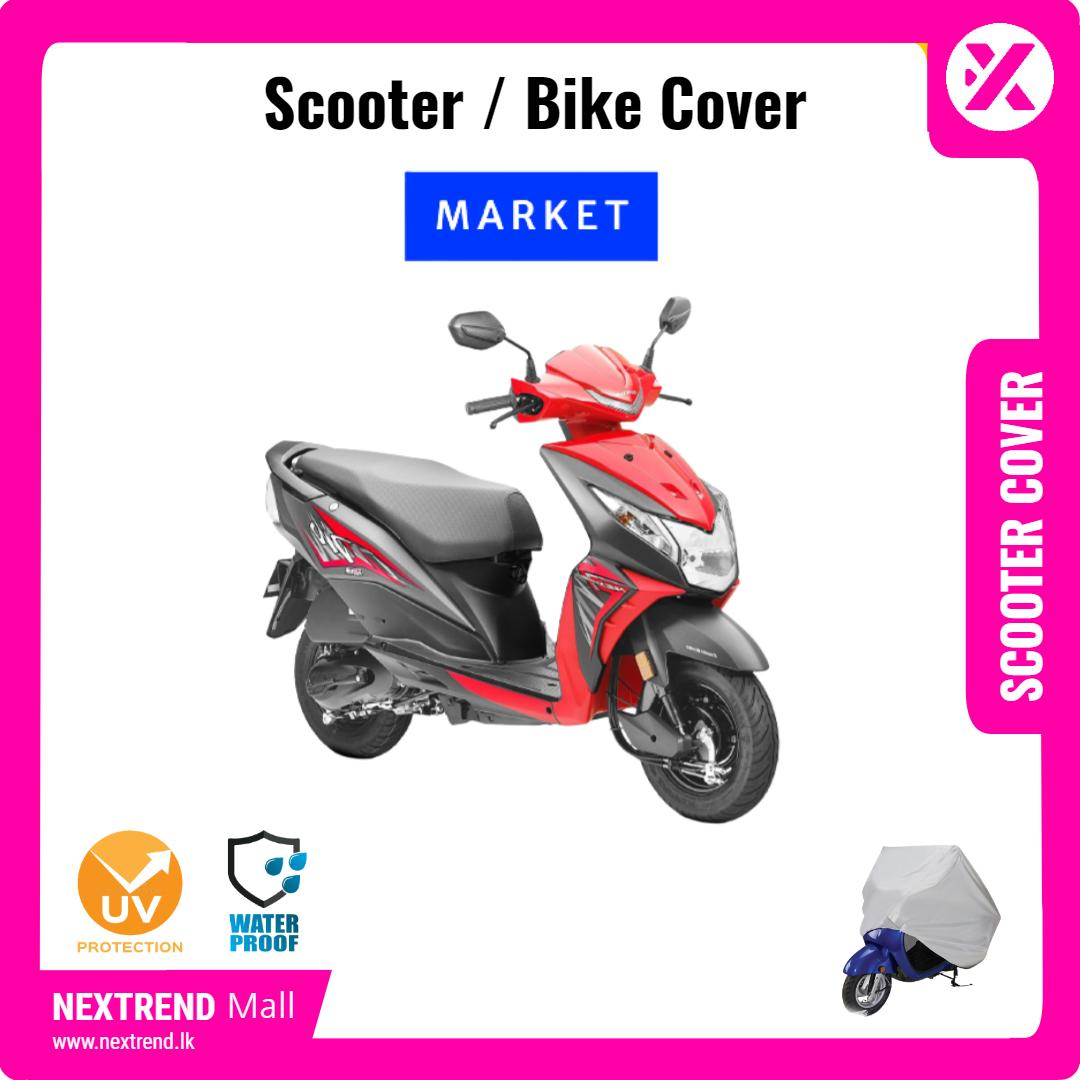motorbike: (263, 296, 784, 824)
